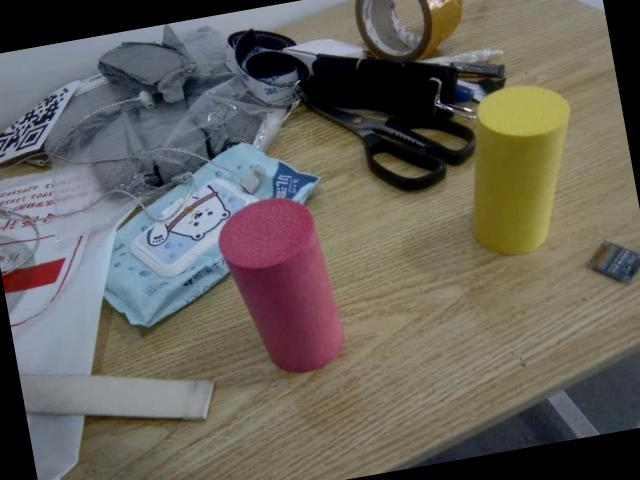red_cylinder: (211, 189, 346, 382)
yellow_cylinder: (449, 77, 590, 260)
